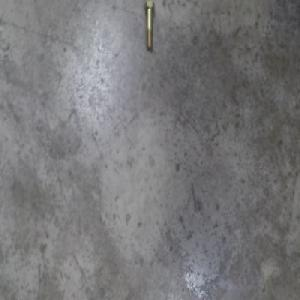Bolt: (144, 6, 157, 54)
